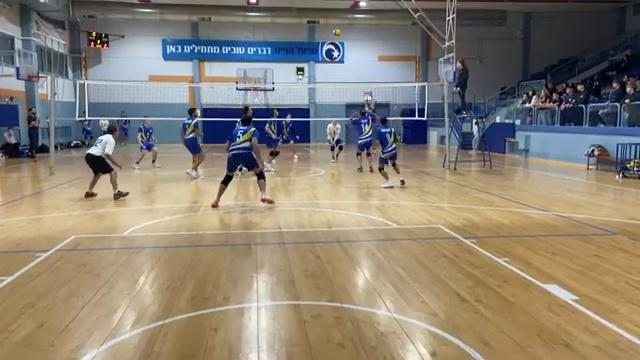ball: (331, 27, 345, 40)
